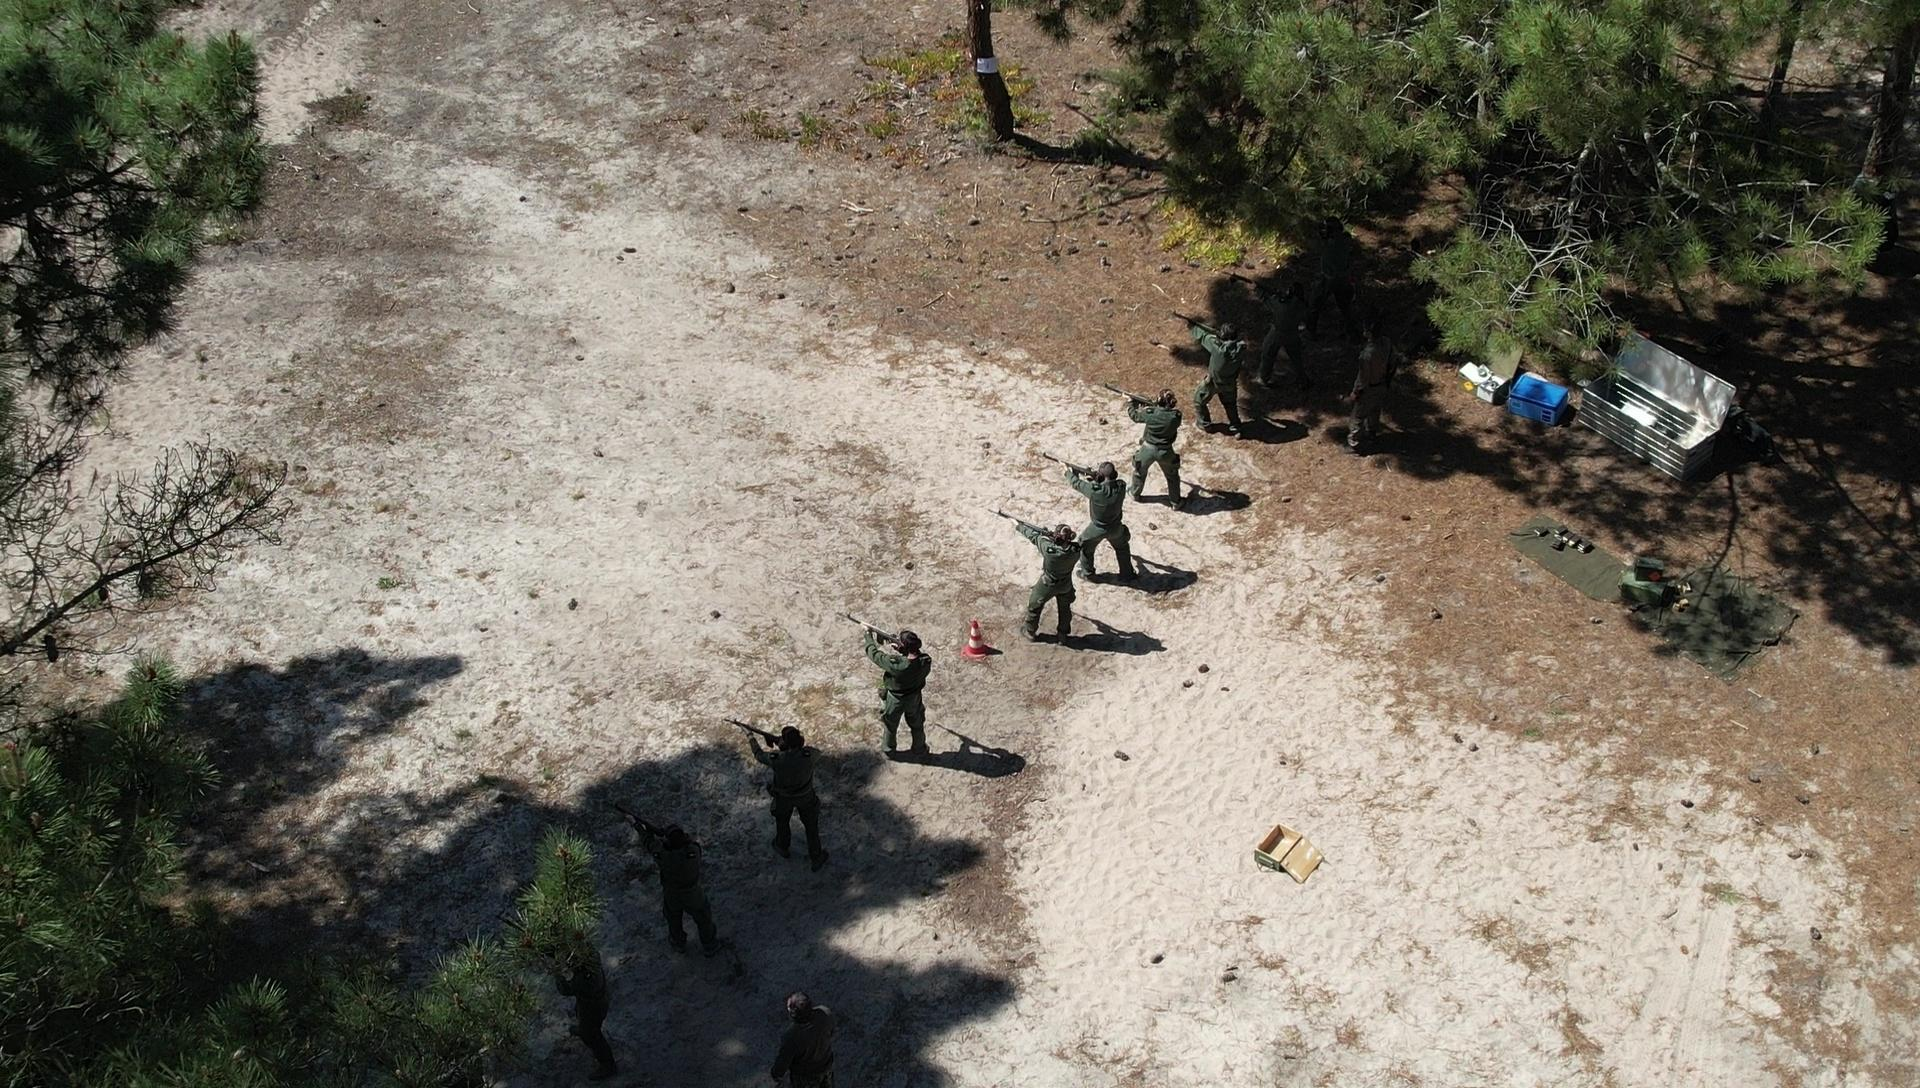Soldier: (732, 703, 851, 880), (618, 804, 728, 972), (845, 615, 953, 774), (1309, 299, 1400, 472), (1241, 266, 1335, 415), (1009, 508, 1093, 663), (1063, 440, 1142, 586), (1112, 396, 1191, 525), (1172, 309, 1251, 437), (537, 944, 625, 1056), (760, 1017, 851, 1088)
